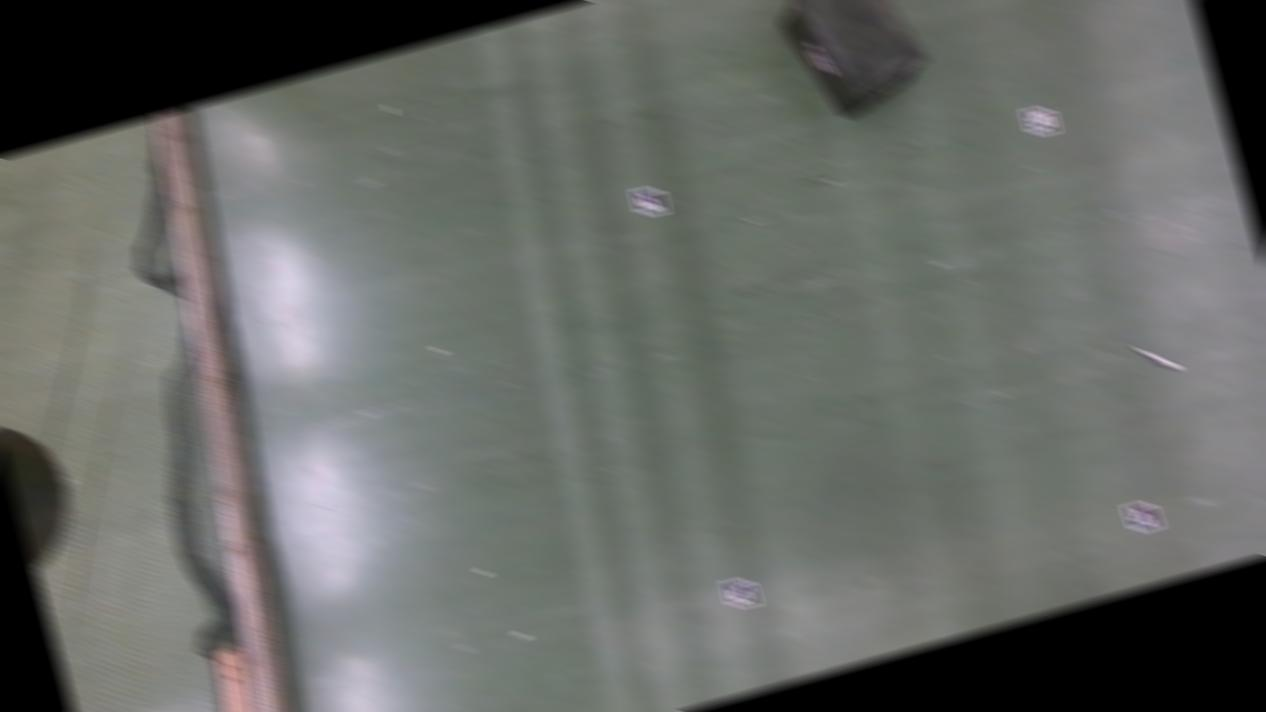probes: (1134, 336, 1182, 377)
rako: (761, 0, 937, 131)
